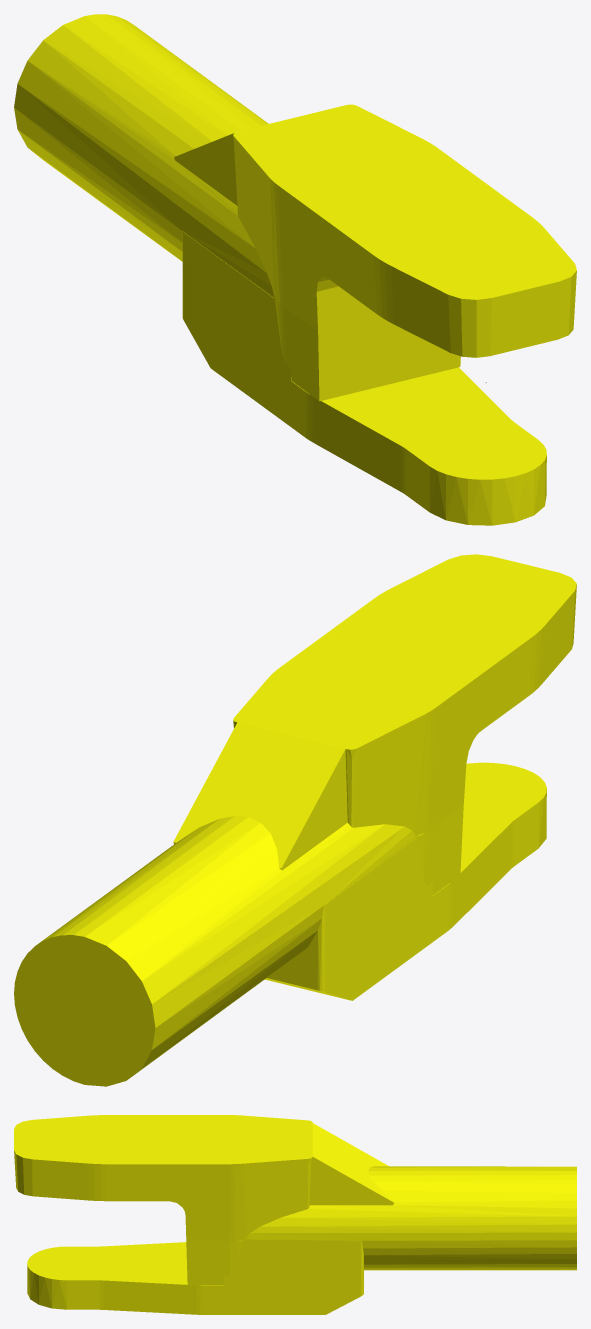
3 renders of one model, top to bottom at view 1: azimuth 30°, elevation 25°; view 2: azimuth 150°, elevation 25°; view 3: azimuth 270°, elevation 25°, orthographic. The views are drawn at different scales.
Parts seen in each view (by area): view 1: node; view 2: node; view 3: node.
Boxes of the visible parts, x1=… form: node: x1=14, y1=14, x2=576, y2=525; node: x1=14, y1=554, x2=576, y2=1086; node: x1=14, y1=1115, x2=576, y2=1314.
Size of the model in its own units: 105 by 152 by 506.
